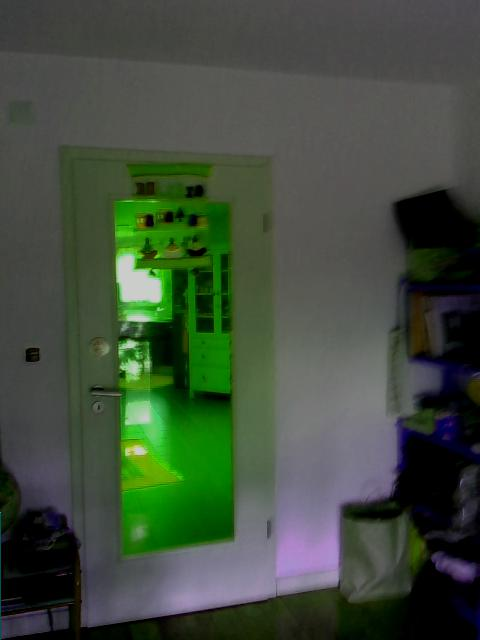closed_door: (56, 147, 279, 622)
